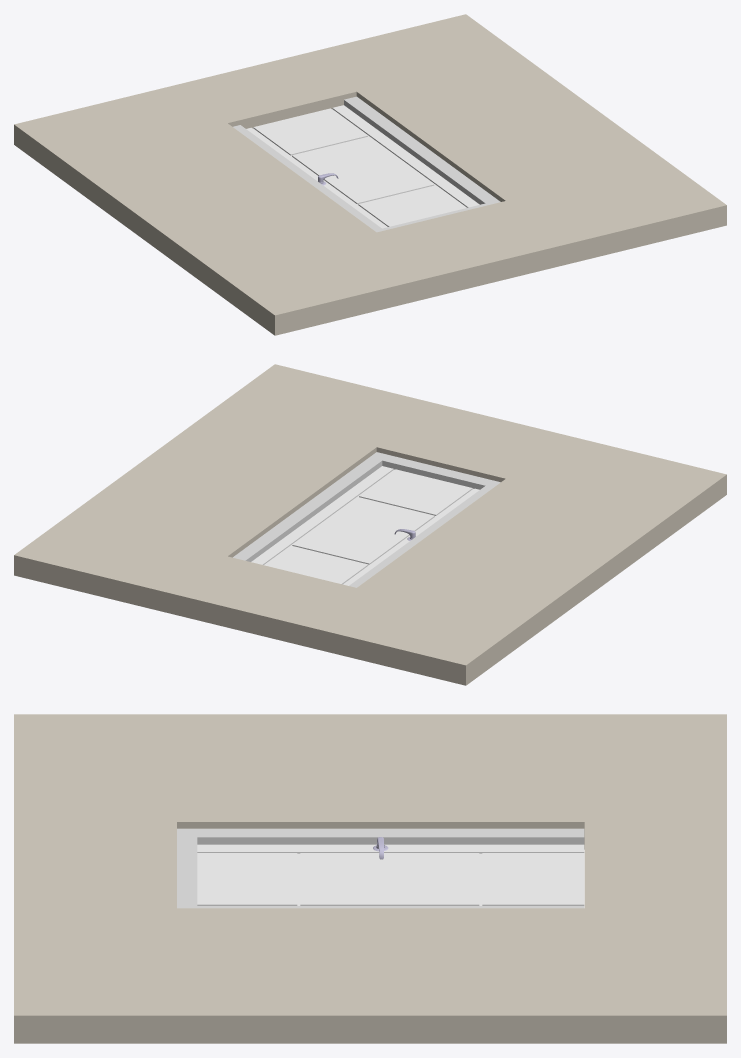
Rendered from Door01.gltf.
3 views of the same model, one above another, from view 1: azimuth 30°, elevation 25°; view 2: azimuth 150°, elevation 25°; view 3: azimuth 270°, elevation 25° (orthographic). The views are drawn at different scales.
Parts seen in each view (by area): view 1: SIP, Door, DoorFrame; view 2: SIP, Door, DoorFrame; view 3: SIP, Door, DoorFrame.
Boxes of the visible parts, x1,y1,x2,y2 form: SIP: (14, 14, 726, 335); Door: (246, 105, 479, 228); DoorFrame: (233, 96, 500, 232); SIP: (14, 364, 726, 685); Door: (251, 466, 479, 585); DoorFrame: (233, 452, 500, 587); SIP: (14, 714, 726, 1043); Door: (197, 844, 584, 905); DoorFrame: (177, 828, 584, 908).
Size of the model in its own units: 3.5 by 0.1805 by 3.5.
